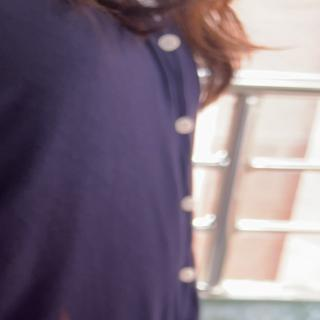fire: (48, 308, 78, 320)
